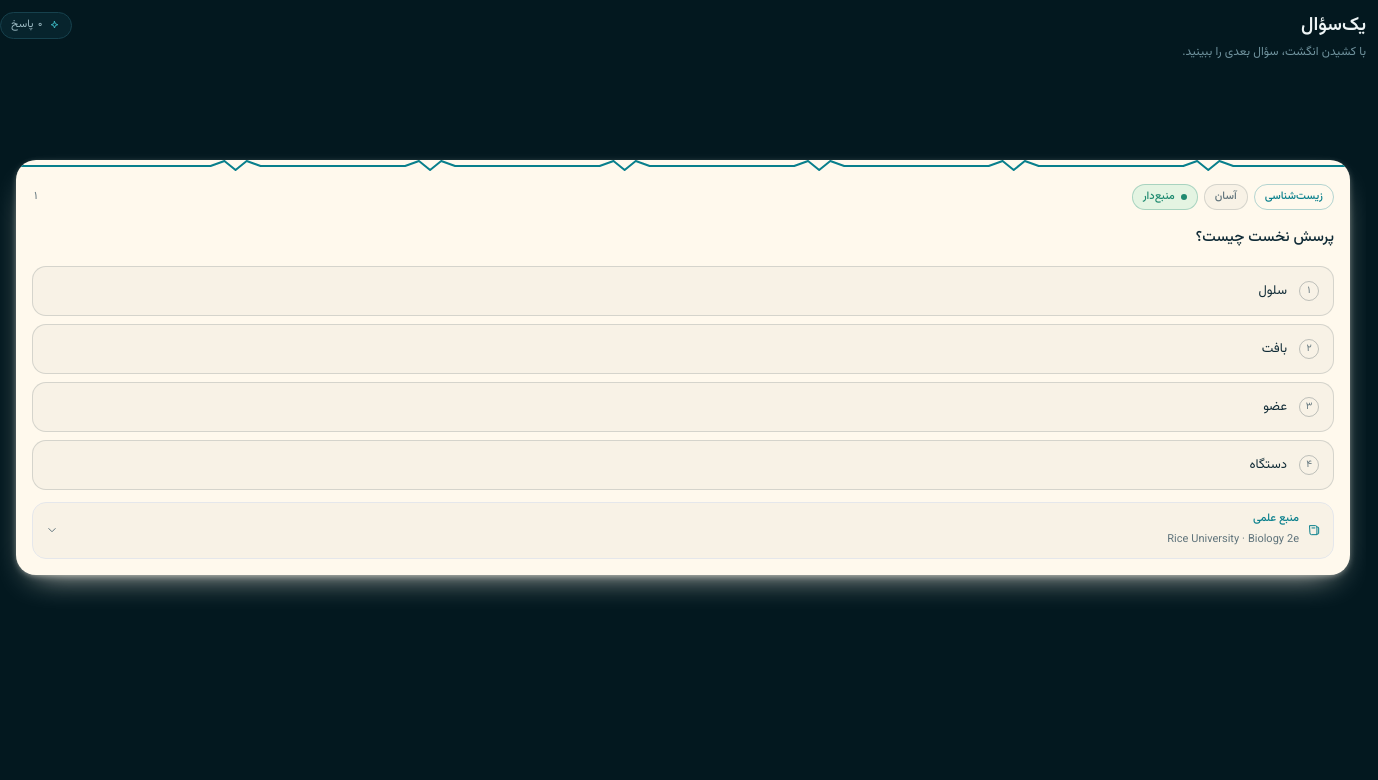
Explore continuous feed › answers with one tap and shows the explanation, points and source
Expected: the heading "پرسش نخست چیست؟" is shown, [1196,226,1334,249]
Step 1. Click the text "سلول" → (1273, 291), box [1258,281,1287,301]
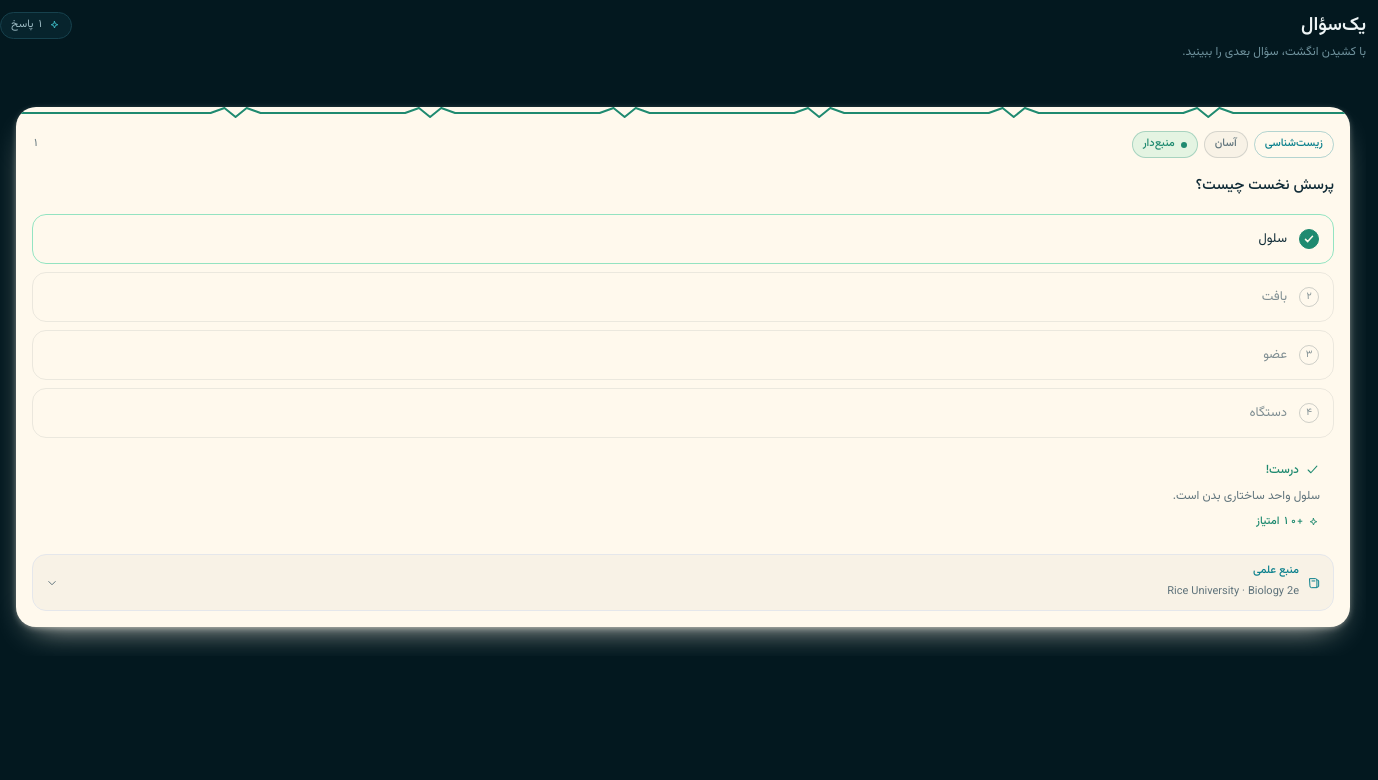
Expected: the text "درست!" is shown, [1266,461,1320,479]
Expected: the text "+۱۰ امتیاز" is shown, [1256,514,1303,530]
Expected: the text "سلول واحد ساختاری بدن است." is shown, [1173,487,1320,505]
Note: The citation is folded until asked for, then opens with its institution.
Step 2. Click the text "منبع علمی" → (1276, 571), box [1253,562,1299,579]
(page scrolled)
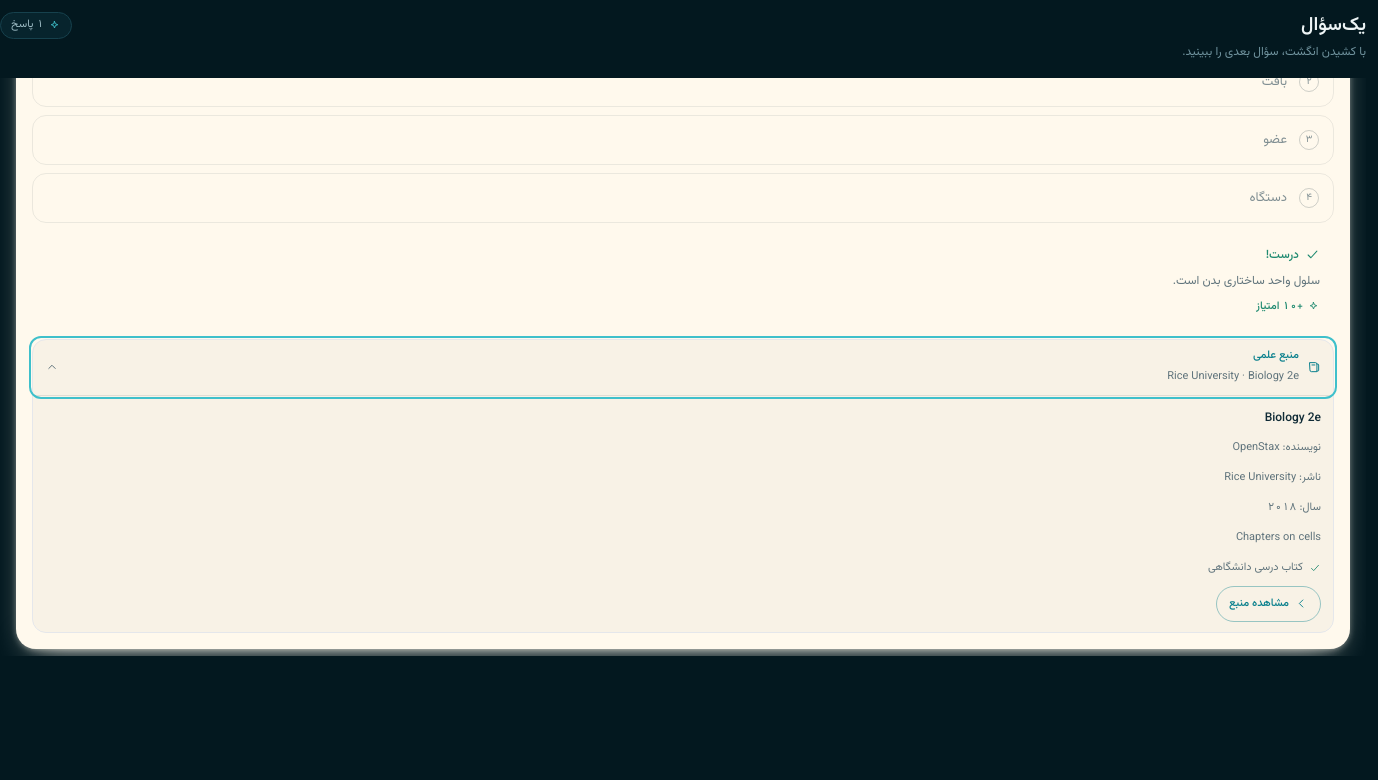
Expected: the text "Rice University · Biology 2e" is shown, [1167,368,1299,384]
Expected: the button "مشاهده منبع" is shown, [1216,586,1321,622]
